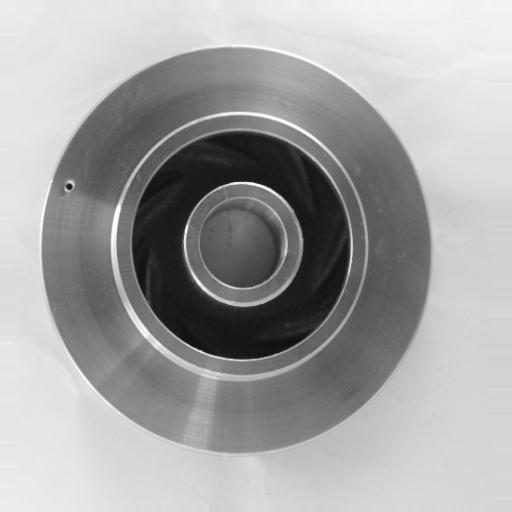pit: (59, 171, 81, 198)
unpolished_casting: (39, 44, 433, 459)
